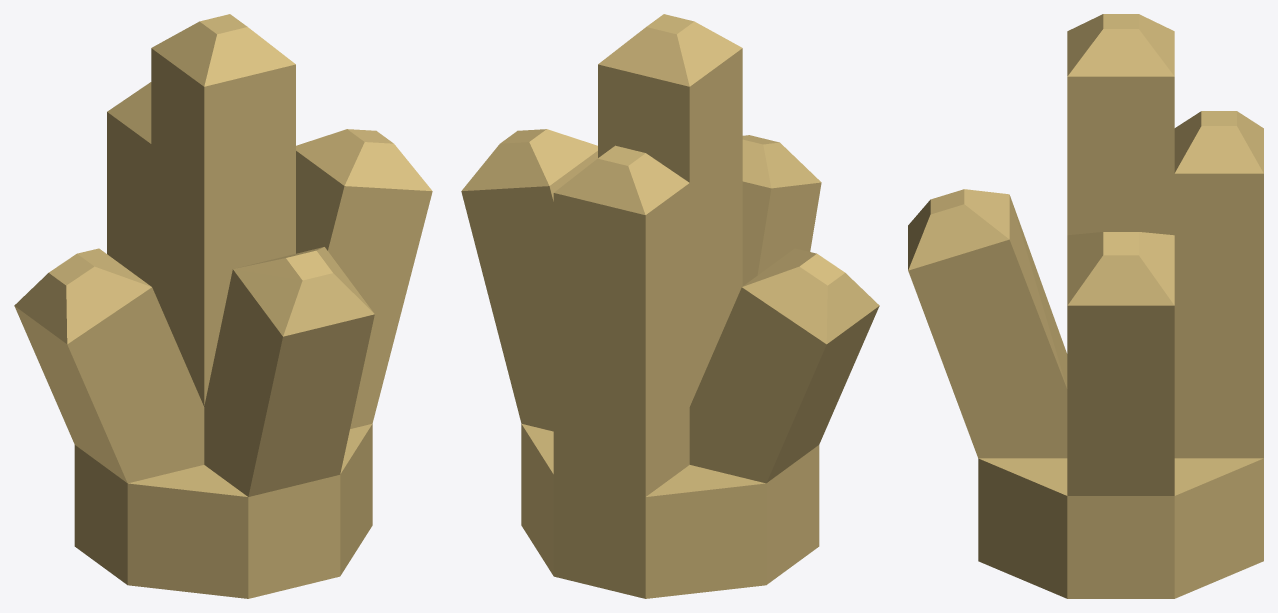
The model's file is Crystal_1.fbx.
3 renders of one model, left to right at view 1: azimuth 30°, elevation 25°; view 2: azimuth 150°, elevation 25°; view 3: azimuth 270°, elevation 25°, orthographic.
Visible parts, largest first — view 1: Part.6; view 2: Part.6; view 3: Part.6.
Boxes of the visible parts, box(x1,y1,x2,y2) form: Part.6: box(14, 14, 432, 598); Part.6: box(461, 14, 879, 598); Part.6: box(908, 14, 1263, 598).
Size of the model in its own units: 1194 by 1598 by 996.
